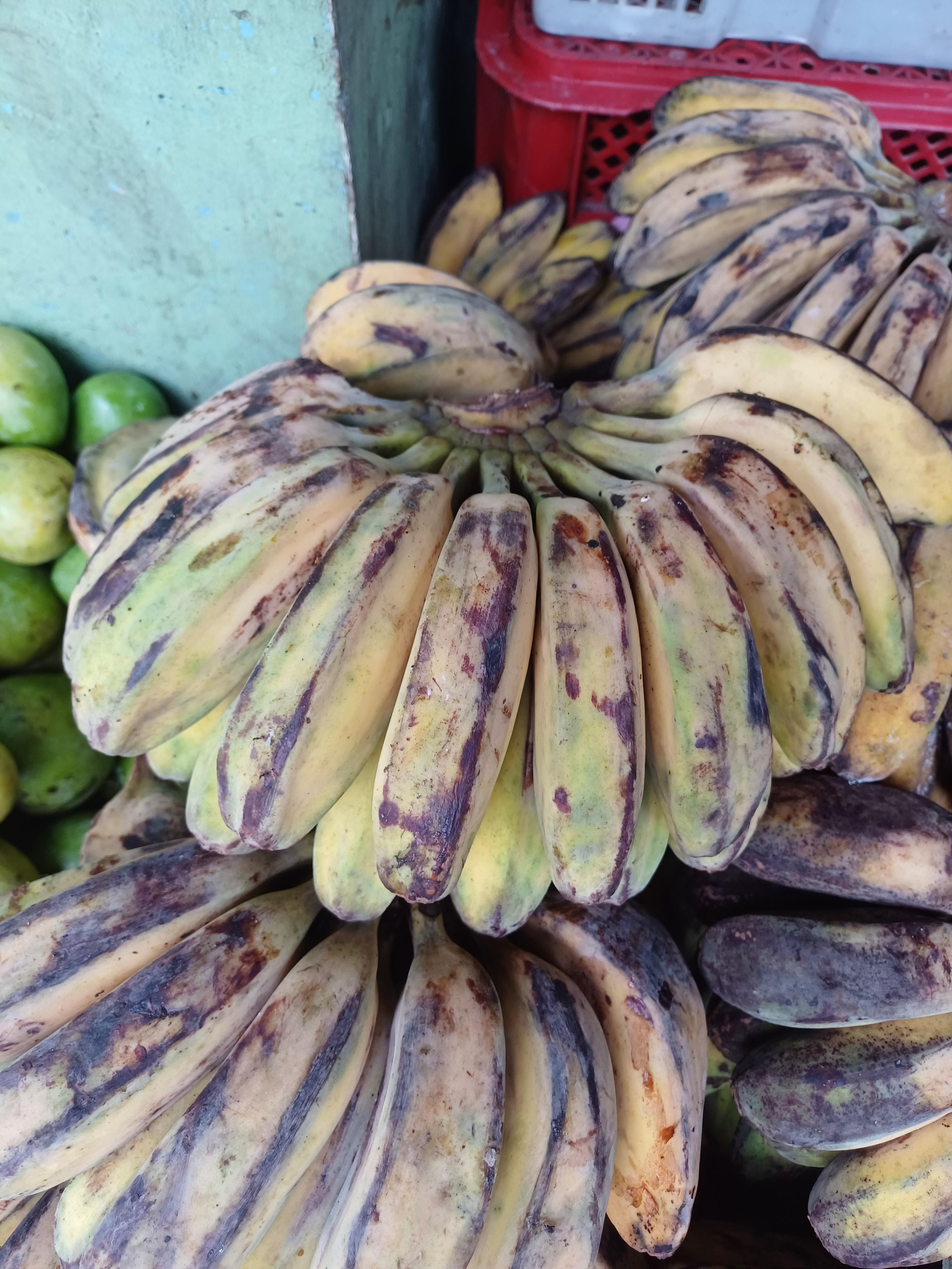overripe: (0, 840, 706, 1269), (693, 770, 952, 1266), (609, 77, 952, 422), (422, 168, 641, 375)
underripe: (64, 329, 952, 936)
